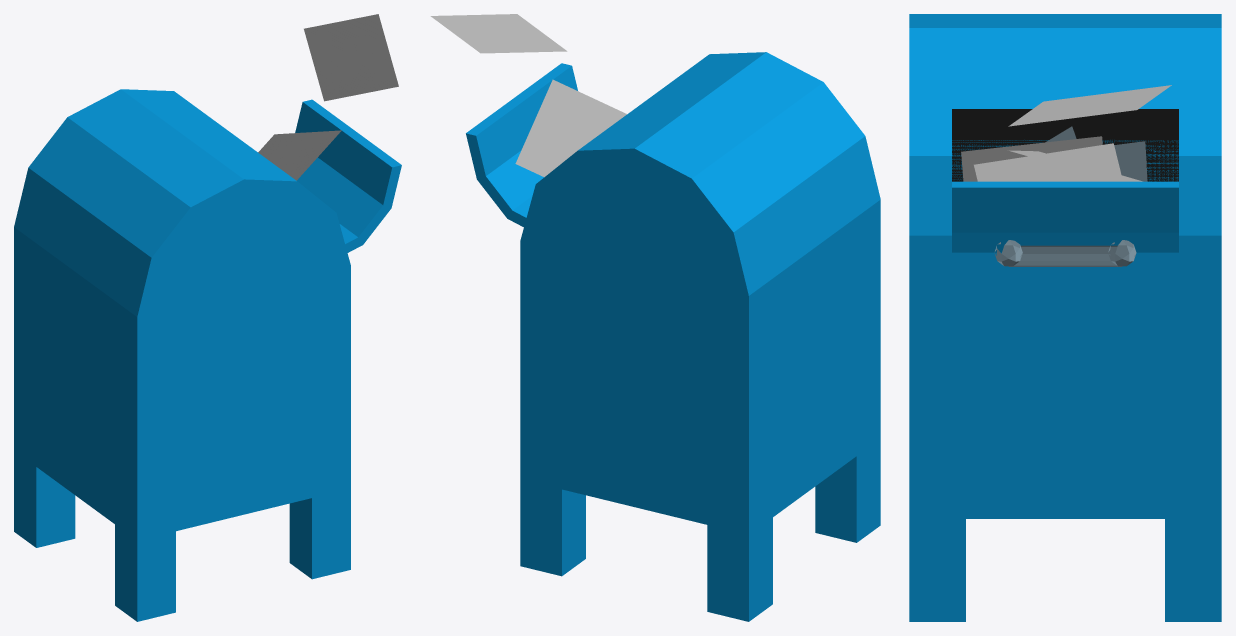
File: mailbox.glb
3 views of the same model, side by side, from view 1: azimuth 30°, elevation 25°; view 2: azimuth 150°, elevation 25°; view 3: azimuth 270°, elevation 25° (orthographic). The views are drawn at different scales.
Visible parts, largest first — view 1: Node; view 2: Node; view 3: Node.
Part boxes in pixels (box(x1,y1,x2,y2)): Node: box(14, 14, 401, 621); Node: box(430, 14, 880, 621); Node: box(909, 14, 1221, 621).
Bounding box in the file's own units: 0.3413 × 0.4541 × 0.22.
